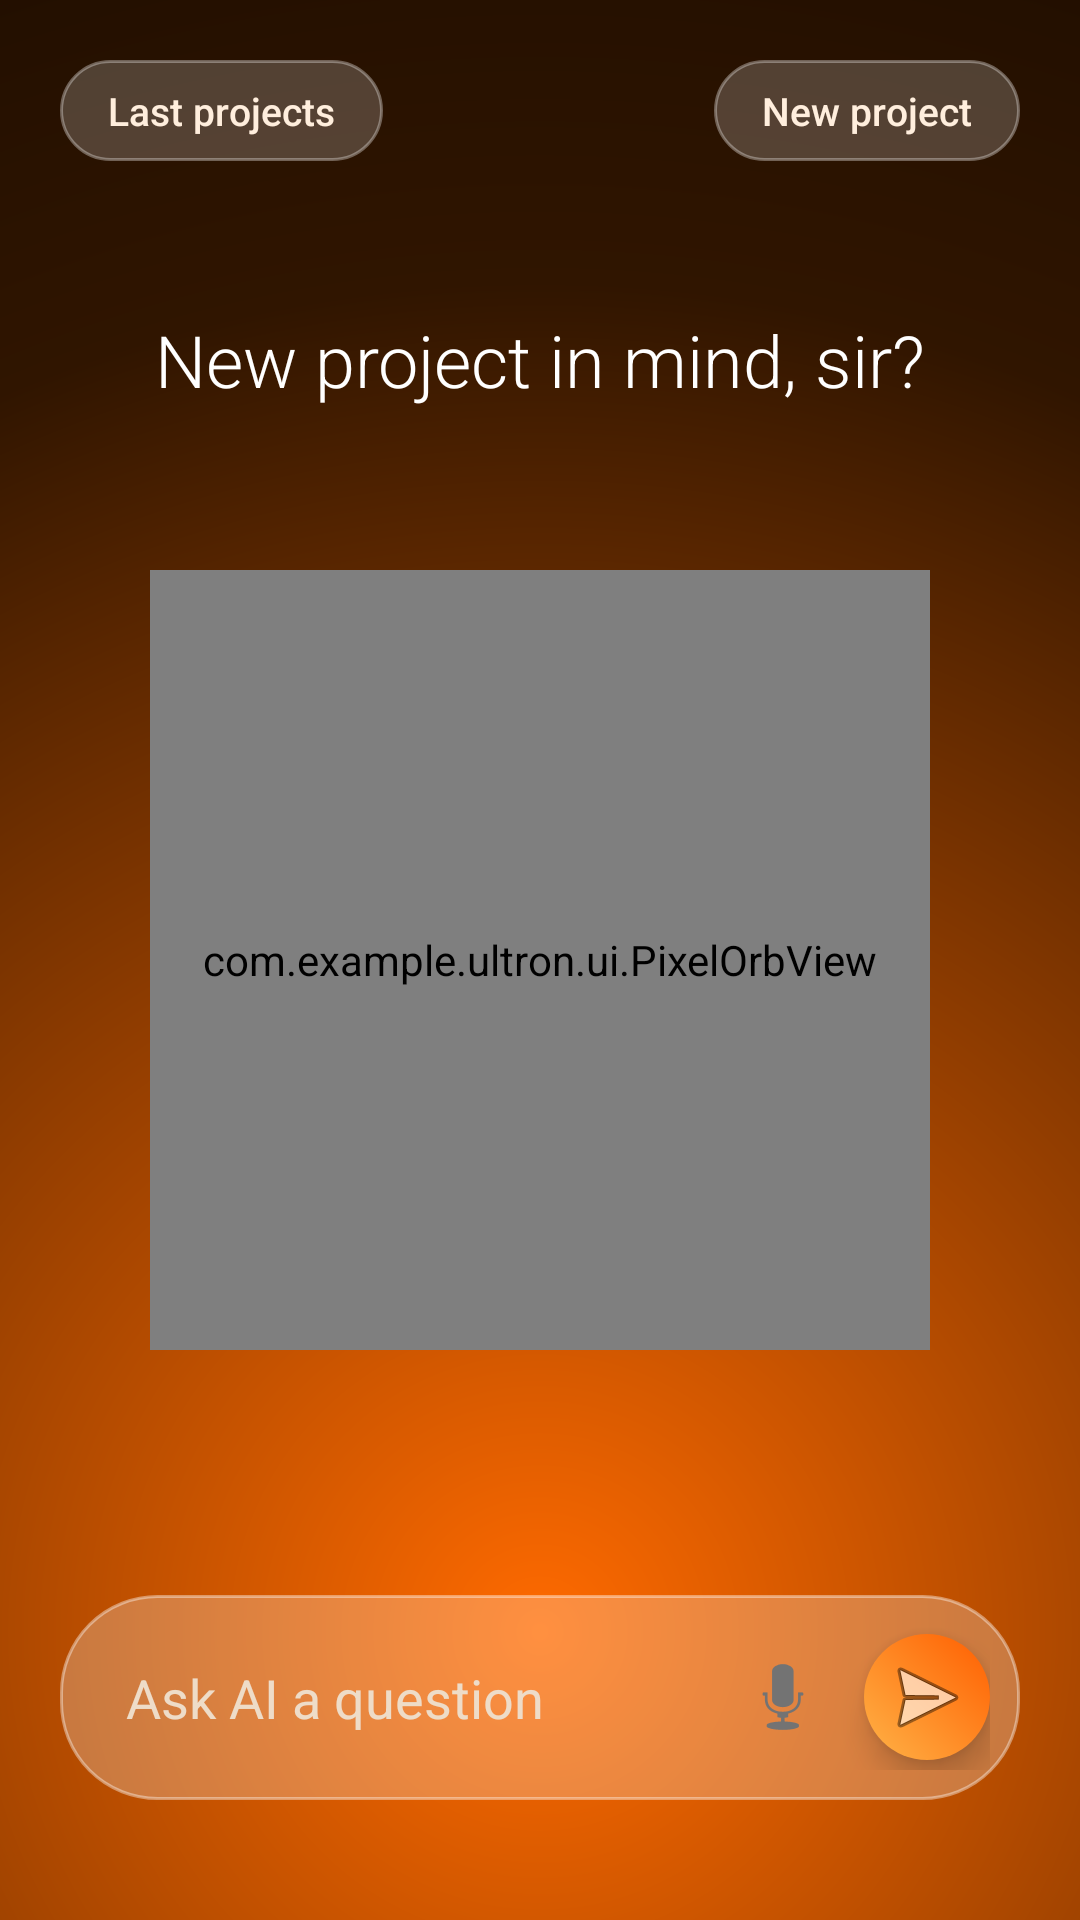

Named icons in this screenshot (1080px x 1920px) and their centers, (x=x, y=y):
Send: (x=927, y=1697)
